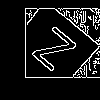Z: (24, 26, 77, 80)
